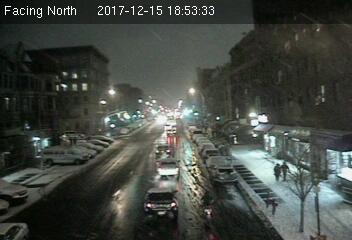bicycle: (201, 190, 217, 222)
car: (143, 186, 179, 218), (212, 164, 239, 184), (154, 158, 182, 176), (154, 144, 172, 158)
pedestrian: (280, 160, 289, 182), (273, 162, 281, 182)
